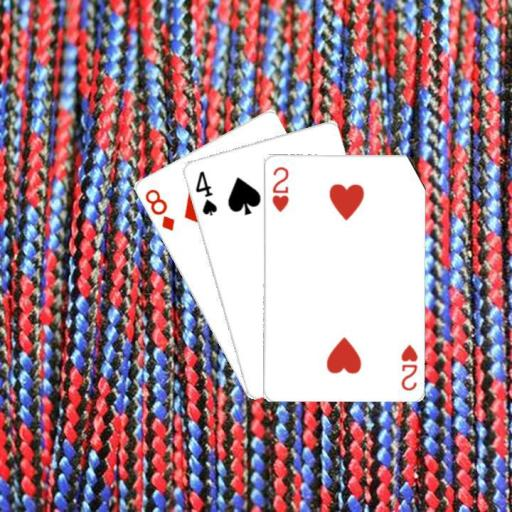2H: (397, 341, 419, 392), (268, 163, 290, 213)
4S: (192, 167, 219, 217)
8D: (142, 186, 177, 233)
